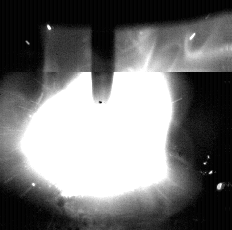arame: (93, 0, 113, 104)
poca: (20, 0, 169, 230)
